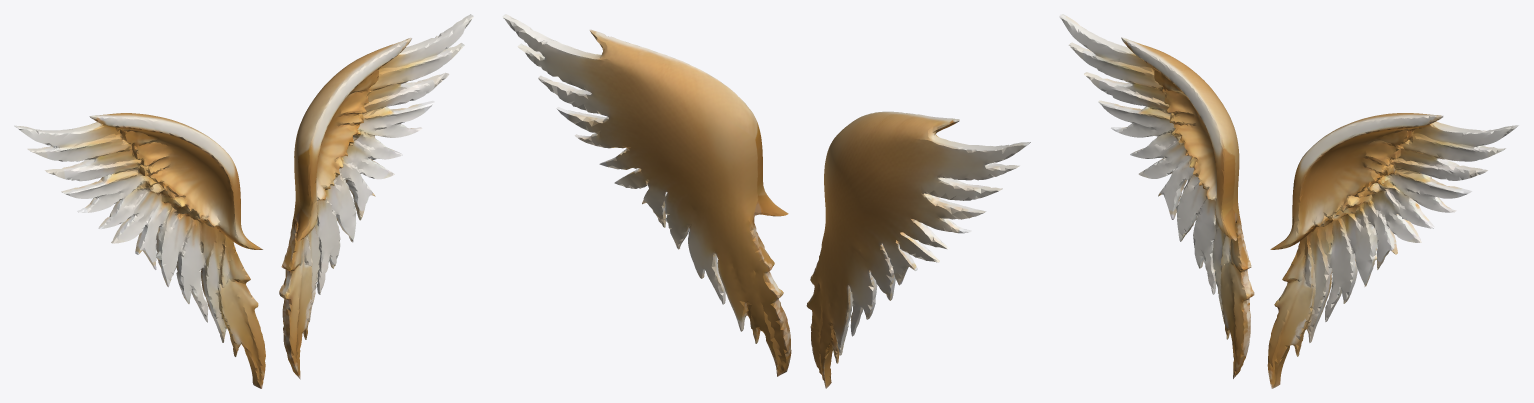
The model's file is valkyrie_wing_L.glb.
The picture shows the model from 3 angles, left to right: view 1: azimuth 30°, elevation 25°; view 2: azimuth 150°, elevation 25°; view 3: azimuth 330°, elevation 25°; orthographic projection. The views are drawn at different scales.
Parts seen in each view (by area): view 1: valkyrie_wing_L; view 2: valkyrie_wing_L; view 3: valkyrie_wing_L.
Part boxes in pixels (<box>): valkyrie_wing_L: <box>14,14,473,388</box>; valkyrie_wing_L: <box>502,14,1030,388</box>; valkyrie_wing_L: <box>1059,14,1518,388</box>.
Size of the model in its own units: 1.89 by 1.13 by 0.2816.
1 material, 1 textured.
